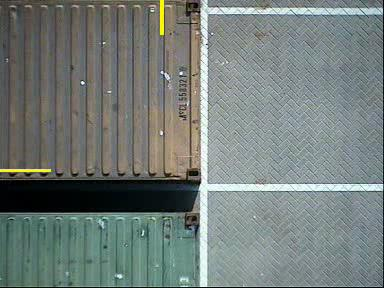groundmarker_2: (199, 54, 231, 109), (199, 225, 231, 280)
